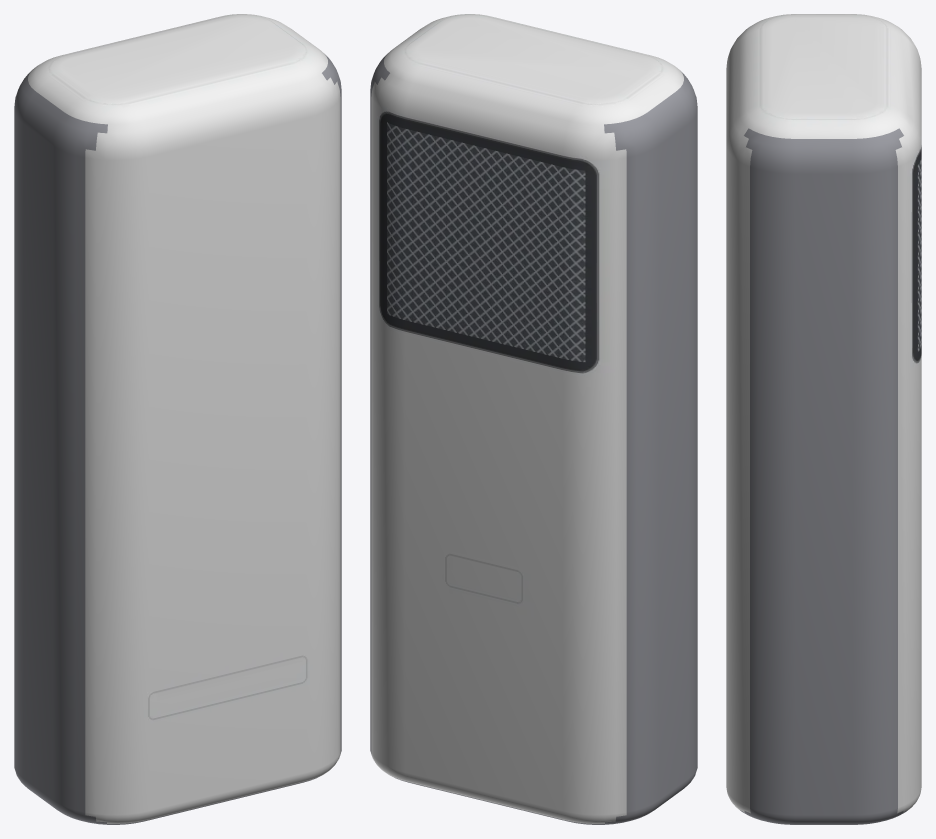
The model's file is sennheiser-e-609-silver.glb.
3 renders of one model, left to right at view 1: azimuth 30°, elevation 25°; view 2: azimuth 150°, elevation 25°; view 3: azimuth 270°, elevation 25°, orthographic. The views are drawn at different scales.
Visible parts, largest first — view 1: sennheiser-e-609-silver-body; view 2: sennheiser-e-609-silver-body; view 3: sennheiser-e-609-silver-body.
Boxes of the visible parts, x1,y1,x2,y2 form: sennheiser-e-609-silver-body: (14,14,341,824); sennheiser-e-609-silver-body: (370,14,697,824); sennheiser-e-609-silver-body: (726,14,921,824).
Bounding box in the file's own units: 0.055 × 0.134 × 0.034.
1 material, 1 textured.
